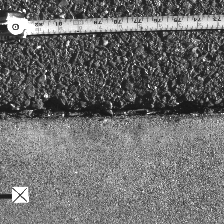circle: (6, 17, 25, 35)
crack: (1, 102, 223, 122)
square: (11, 186, 29, 203)
